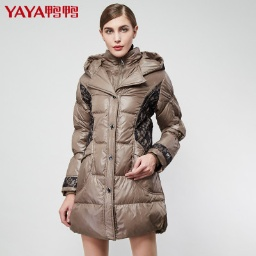face: (95, 3, 143, 66)
